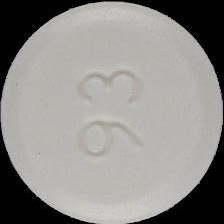69189-5140: (0, 0, 224, 224)
